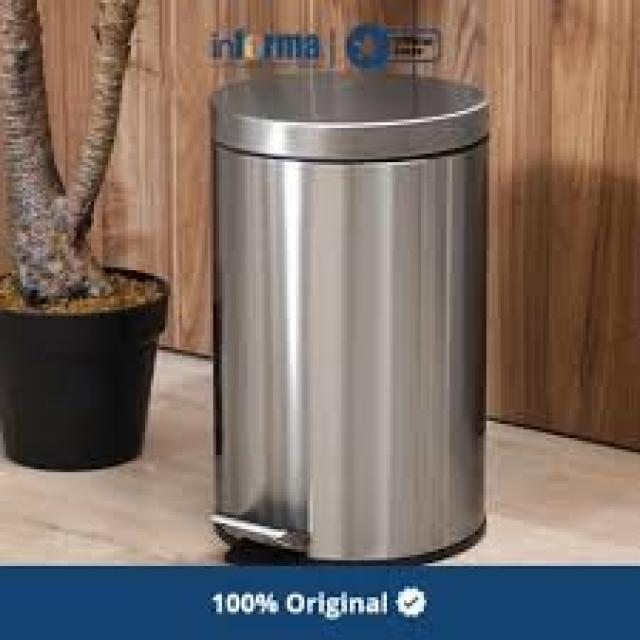Dumpster: (210, 79, 490, 570)
